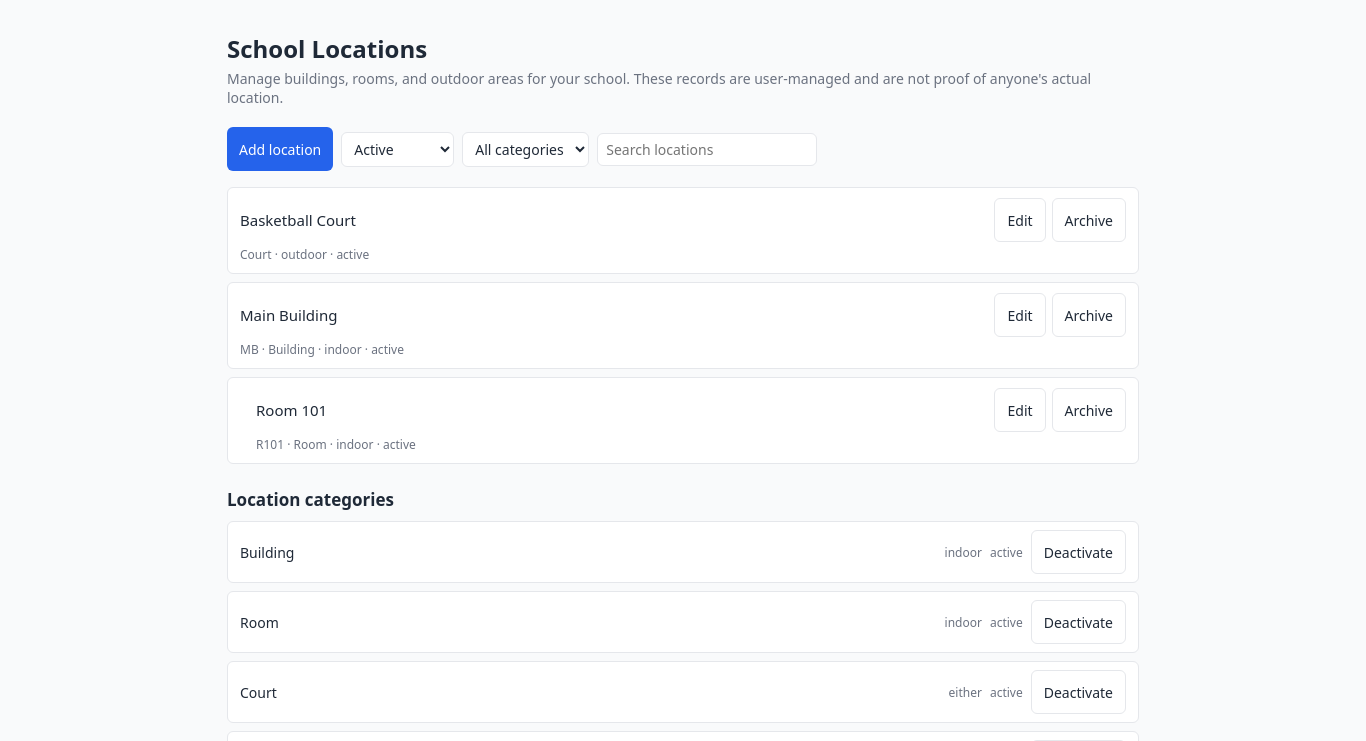
Scenario: Locations › archives a location only after inline confirmation
Expected: the text "Main Building" is shown, [240, 305, 337, 325]
Expected: the list item "Room 101" is shown, [256, 400, 327, 420]
Click the button "Archive" in the row of "Room 101".
click(1089, 410)  # box [1052, 388, 1126, 432]
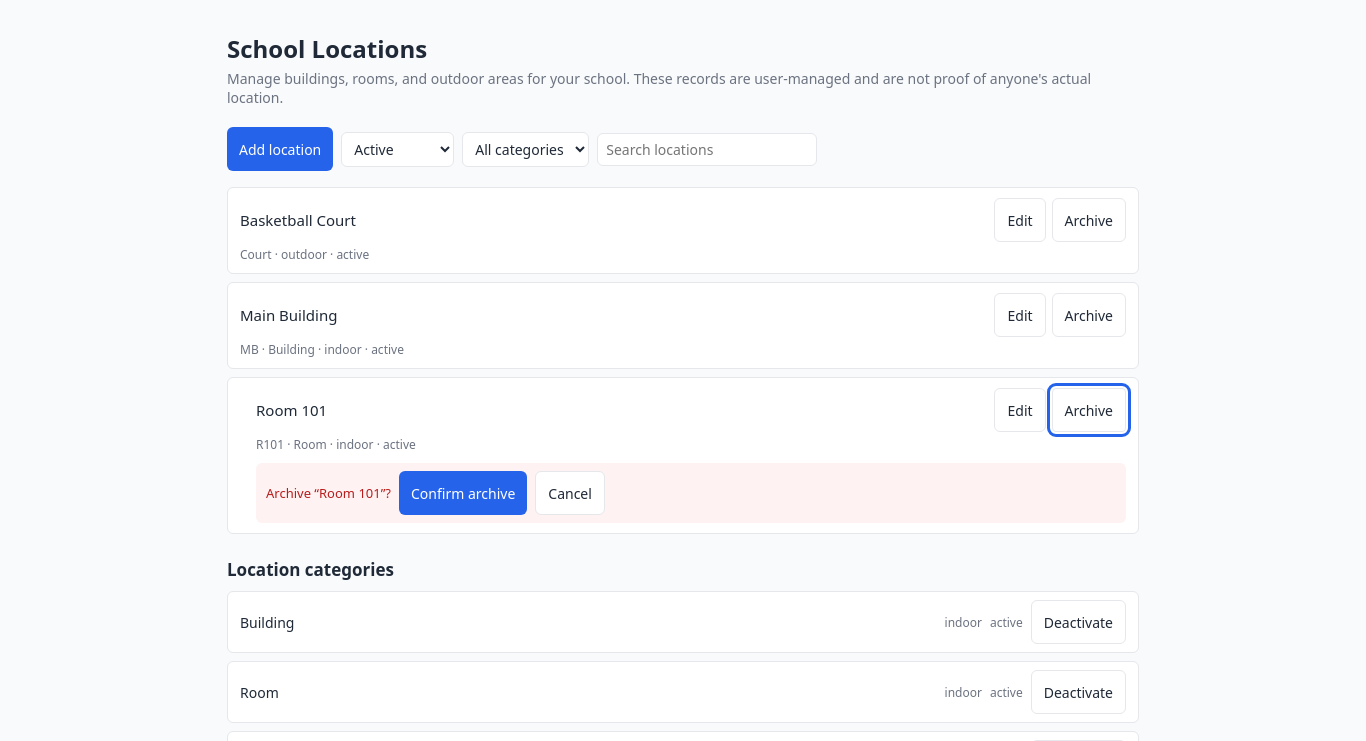
Expected: the dialog shows "Archive “Room 101”?", [256, 463, 1126, 523]
Click the button "Confirm archive".
click(463, 493)  # box [399, 471, 527, 515]
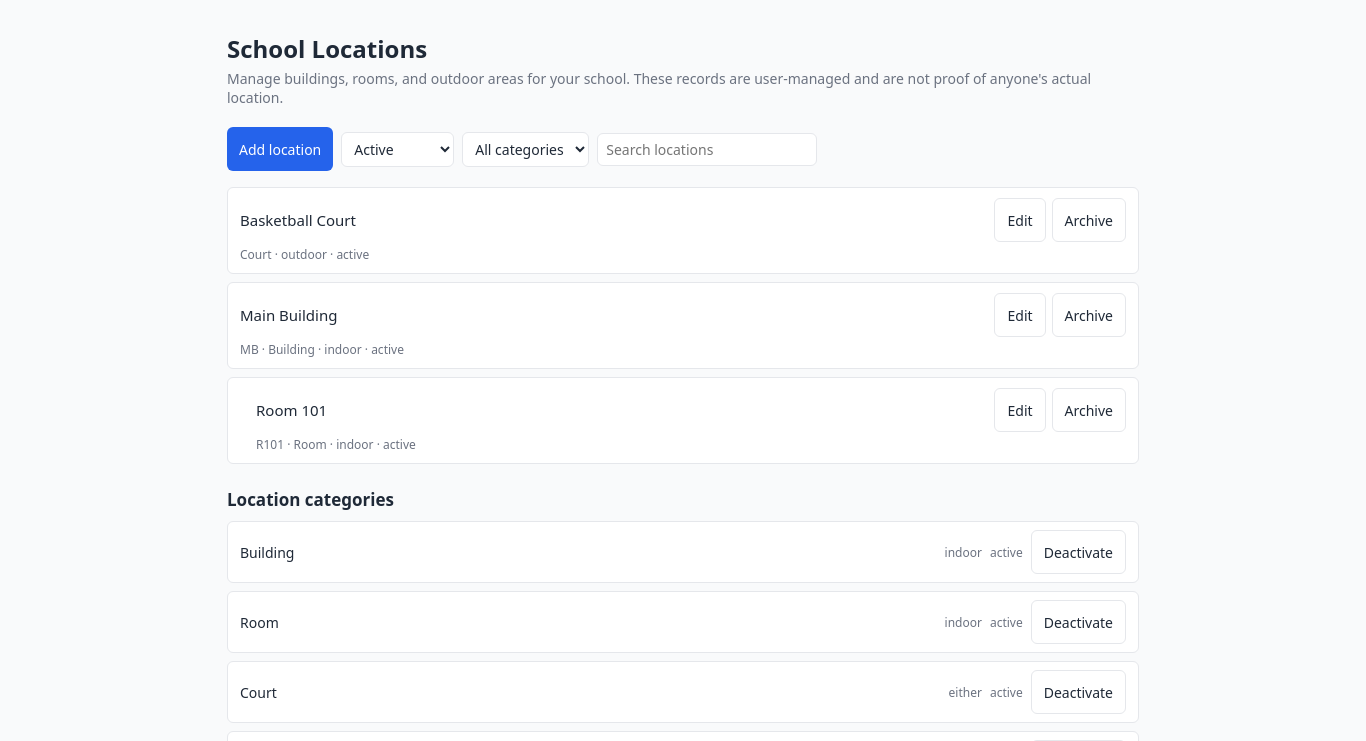
Expected: the dialog is gone
